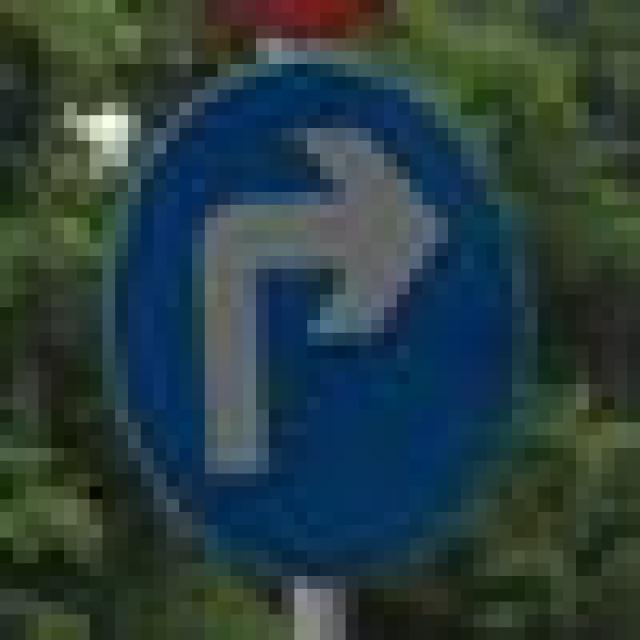railway_crossing: (90, 51, 512, 563)
